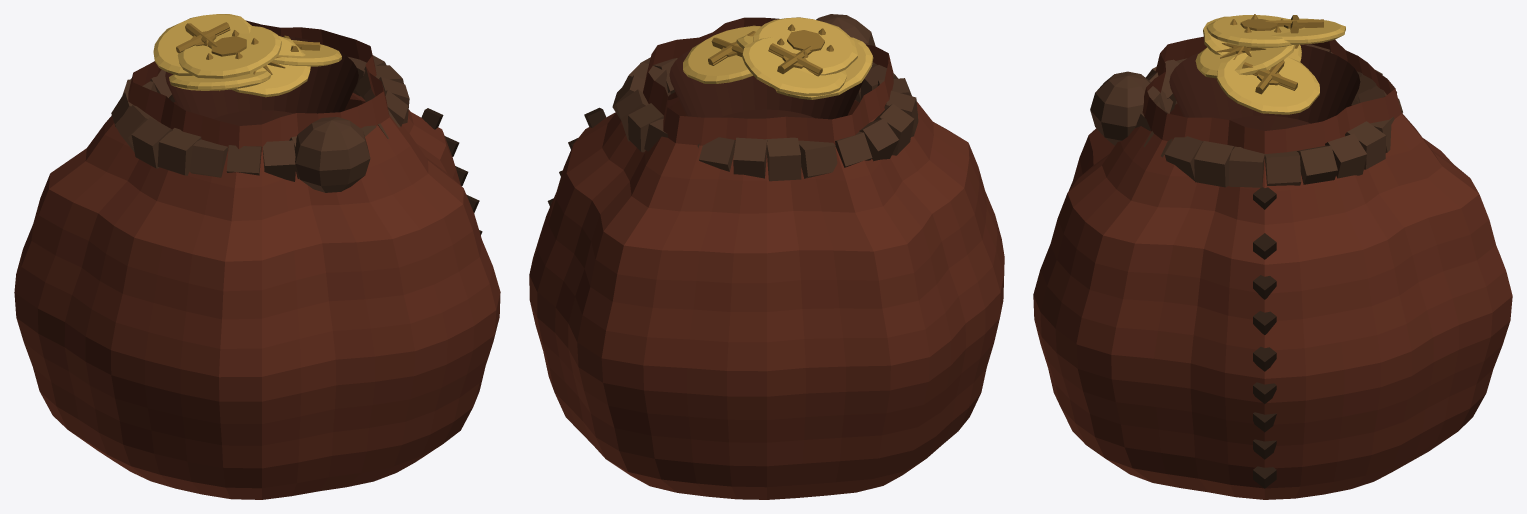
The model's file is LeatherPouch.glb.
3 renders of one model, left to right at view 1: azimuth 30°, elevation 25°; view 2: azimuth 150°, elevation 25°; view 3: azimuth 270°, elevation 25°, orthographic. The views are drawn at different scales.
Parts seen in each view (by area): view 1: PouchBody, DrawstringCord, CordKnot, PouchCoin_02, PouchCoin_01, PouchCoin_03, PouchCoin_00, PouchCoin_04, SeamStitches; view 2: PouchBody, DrawstringCord, PouchCoin_01, PouchCoin_02, PouchCoin_04, PouchCoin_00, CordKnot; view 3: PouchBody, DrawstringCord, PouchCoin_04, SeamStitches, CordKnot, PouchCoin_02, PouchCoin_03, PouchCoin_01, PouchCoin_00.
Part boxes in pixels (<box>): PouchBody: <box>14,20,500,499</box>; DrawstringCord: <box>111,55,409,181</box>; CordKnot: <box>294,117,370,192</box>; PouchCoin_02: <box>177,26,281,78</box>; PouchCoin_01: <box>153,14,251,75</box>; PouchCoin_03: <box>231,36,310,97</box>; PouchCoin_00: <box>169,70,271,91</box>; PouchCoin_04: <box>272,35,341,66</box>; SeamStitches: <box>421,108,482,235</box>; PouchBody: <box>529,17,1004,499</box>; DrawstringCord: <box>612,57,918,181</box>; PouchCoin_01: <box>742,37,846,96</box>; PouchCoin_02: <box>753,17,857,75</box>; PouchCoin_04: <box>683,25,761,83</box>; PouchCoin_00: <box>775,37,873,99</box>; CordKnot: <box>816,14,875,46</box>; PouchBody: <box>1033,36,1512,499</box>; DrawstringCord: <box>1135,44,1402,187</box>; PouchCoin_04: <box>1217,51,1319,114</box>; SeamStitches: <box>1253,187,1276,488</box>; CordKnot: <box>1090,71,1164,145</box>; PouchCoin_02: <box>1206,14,1305,47</box>; PouchCoin_03: <box>1195,43,1295,78</box>; PouchCoin_01: <box>1265,15,1345,48</box>; PouchCoin_00: <box>1203,16,1301,61</box>.
Size of the model in its own units: 0.1414 by 0.1262 by 0.1399.
